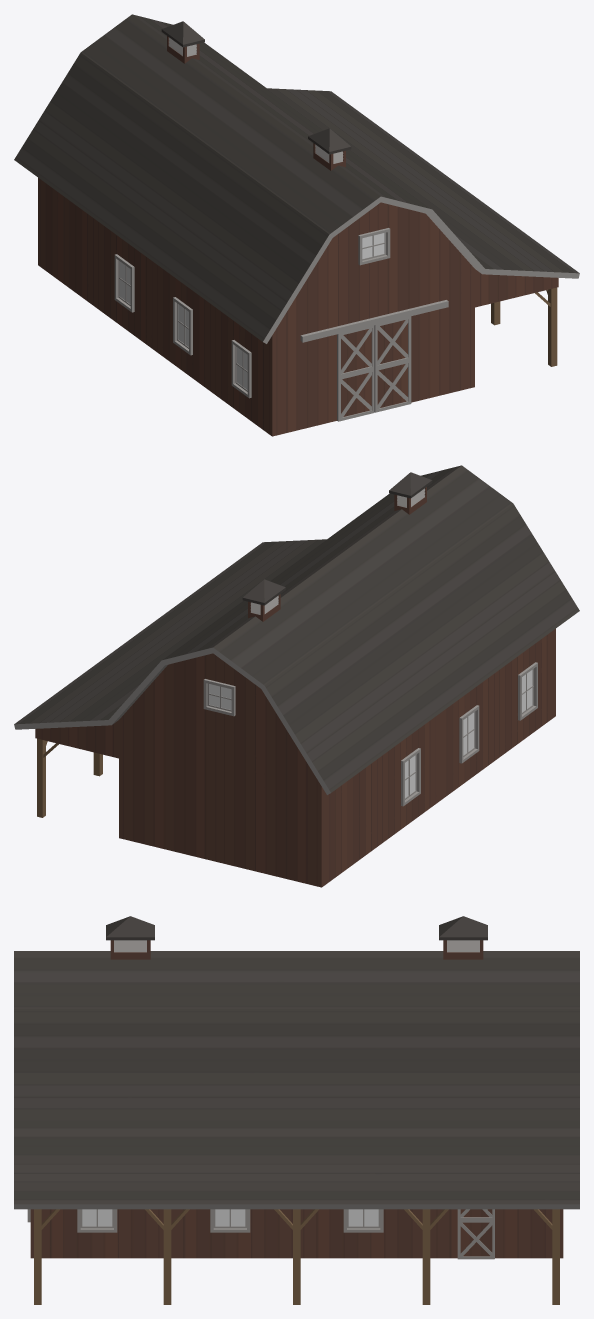
The model's file is SM_Bldg_Farm_Barn_02.fbx.
3 views of the same model, one above another, from view 1: azimuth 30°, elevation 25°; view 2: azimuth 150°, elevation 25°; view 3: azimuth 270°, elevation 25° (orthographic). The views are drawn at different scales.
Parts seen in each view (by area): view 1: SM_Bldg_Farm_Barn_02, SM_Bldg_Farm_Barn_02_Glass; view 2: SM_Bldg_Farm_Barn_02, SM_Bldg_Farm_Barn_02_Glass; view 3: SM_Bldg_Farm_Barn_02, SM_Bldg_Farm_Barn_02_Glass.
Part boxes in pixels (left/top/right/bottom): SM_Bldg_Farm_Barn_02: left=14, top=14, right=579, bottom=436; SM_Bldg_Farm_Barn_02_Glass: left=119, top=233, right=384, bottom=389; SM_Bldg_Farm_Barn_02: left=14, top=465, right=579, bottom=887; SM_Bldg_Farm_Barn_02_Glass: left=209, top=669, right=532, bottom=797; SM_Bldg_Farm_Barn_02: left=14, top=916, right=579, bottom=1304; SM_Bldg_Farm_Barn_02_Glass: left=82, top=1209, right=378, bottom=1226.
Size of the model in its own units: 1251 by 948 by 1700.
